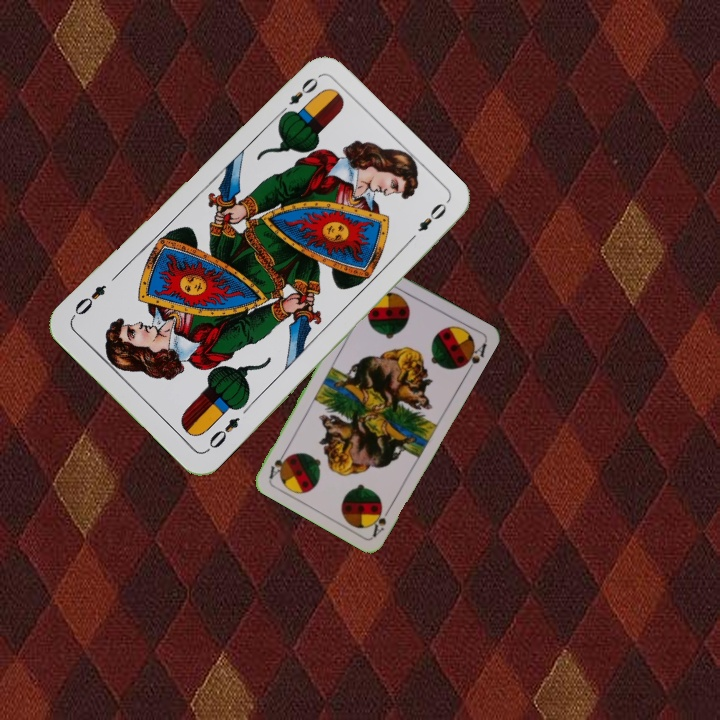EO: (274, 73, 321, 119), (202, 413, 243, 455)
SA: (366, 501, 394, 539)
